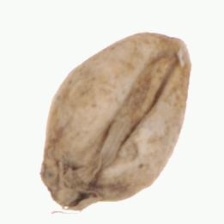L1: (38, 172, 98, 211), (144, 29, 194, 67)
L2: (39, 32, 192, 212)
